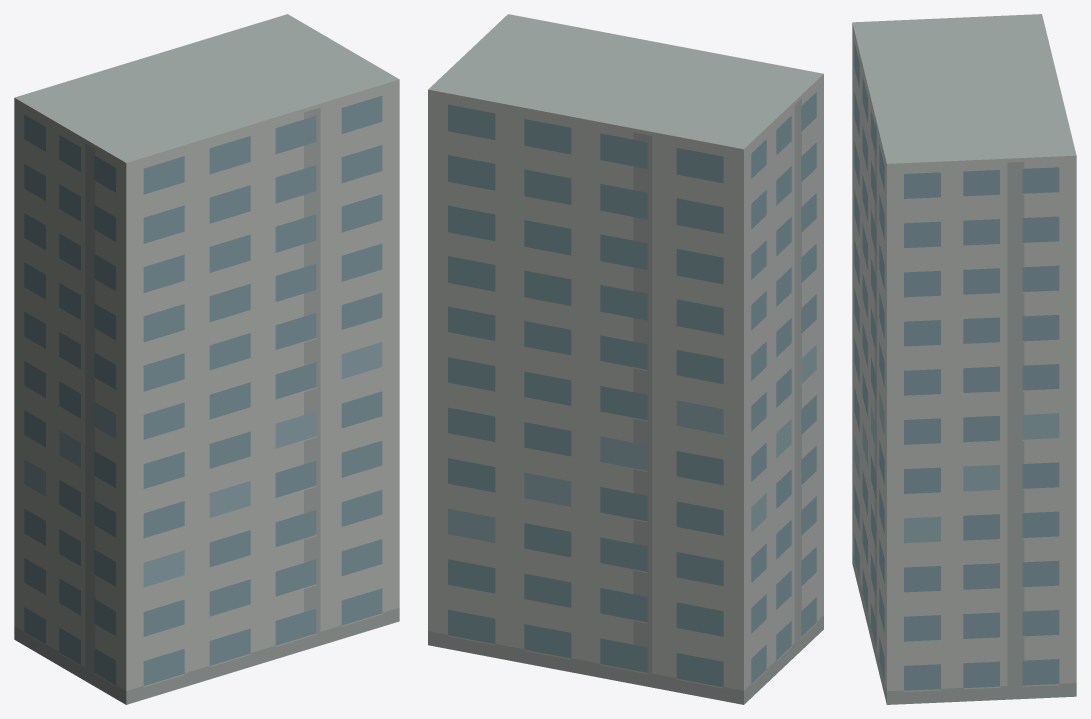
Rendered from residential-edabc92f-5d08-4857-8146-f132af0d7243.glb.
3 views of the same model, side by side, from view 1: azimuth 30°, elevation 25°; view 2: azimuth 150°, elevation 25°; view 3: azimuth 270°, elevation 25° (orthographic). The views are drawn at different scales.
Parts seen in each view (by area): view 1: residential-edabc92f-5d08-4857-8146-f132af0d7243.tmp; view 2: residential-edabc92f-5d08-4857-8146-f132af0d7243.tmp; view 3: residential-edabc92f-5d08-4857-8146-f132af0d7243.tmp.
Boxes of the visible parts, left/top/right/bottom form: residential-edabc92f-5d08-4857-8146-f132af0d7243.tmp: left=14, top=14, right=399, bottom=704; residential-edabc92f-5d08-4857-8146-f132af0d7243.tmp: left=428, top=14, right=823, bottom=704; residential-edabc92f-5d08-4857-8146-f132af0d7243.tmp: left=852, top=14, right=1076, bottom=704.
Bounding box in the file's own units: 20.81 × 35 × 13.16.
